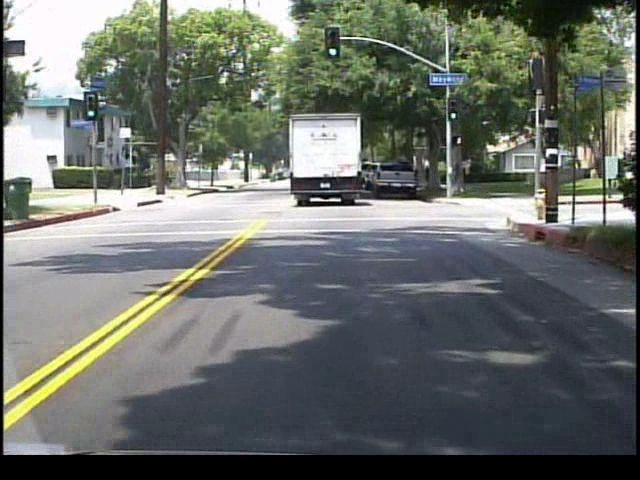person: (423, 166, 432, 185)
